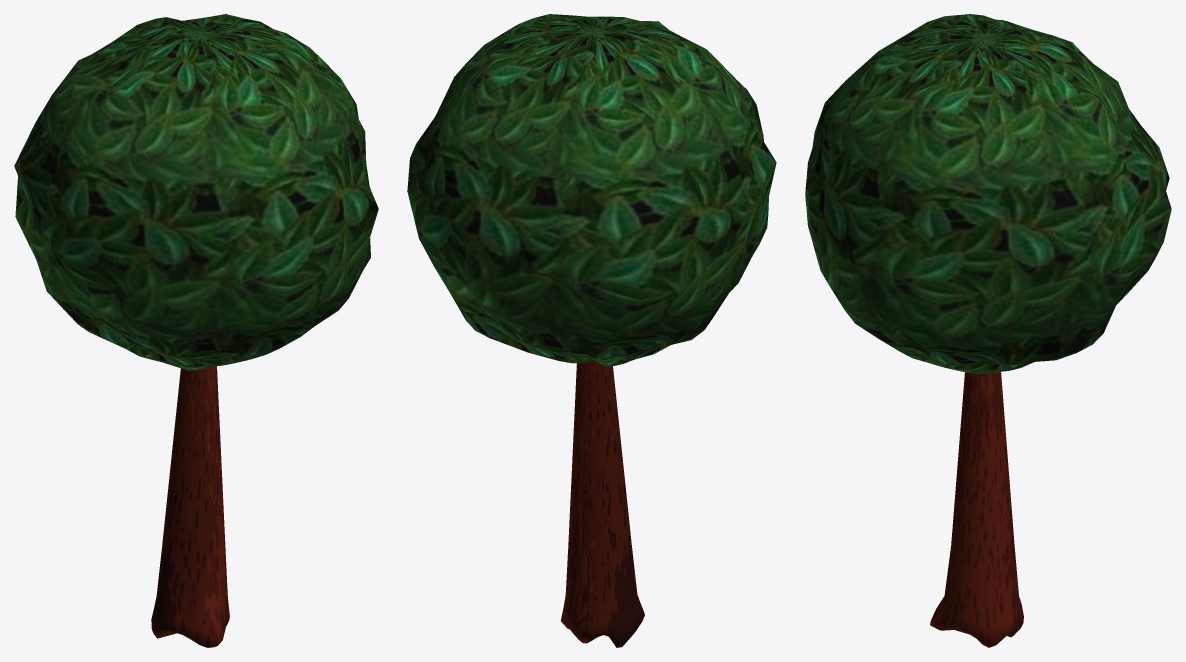
Rendered from Tree2.glb.
The picture shows the model from 3 angles, left to right: view 1: azimuth 30°, elevation 25°; view 2: azimuth 150°, elevation 25°; view 3: azimuth 270°, elevation 25°; orthographic projection.
Visible parts, largest first — view 1: Sphere, Cylinder; view 2: Sphere, Cylinder; view 3: Sphere, Cylinder.
Part boxes in pixels (bbox=[...]): Sphere: bbox=[14, 14, 378, 370]; Cylinder: bbox=[151, 366, 229, 647]; Sphere: bbox=[407, 14, 776, 366]; Cylinder: bbox=[561, 361, 644, 647]; Sphere: bbox=[805, 14, 1171, 373]; Cylinder: bbox=[930, 371, 1023, 647].
Bounding box in the file's own units: 3.31 × 6.38 × 3.5.
Materials: 2 (2 with a texture image).
